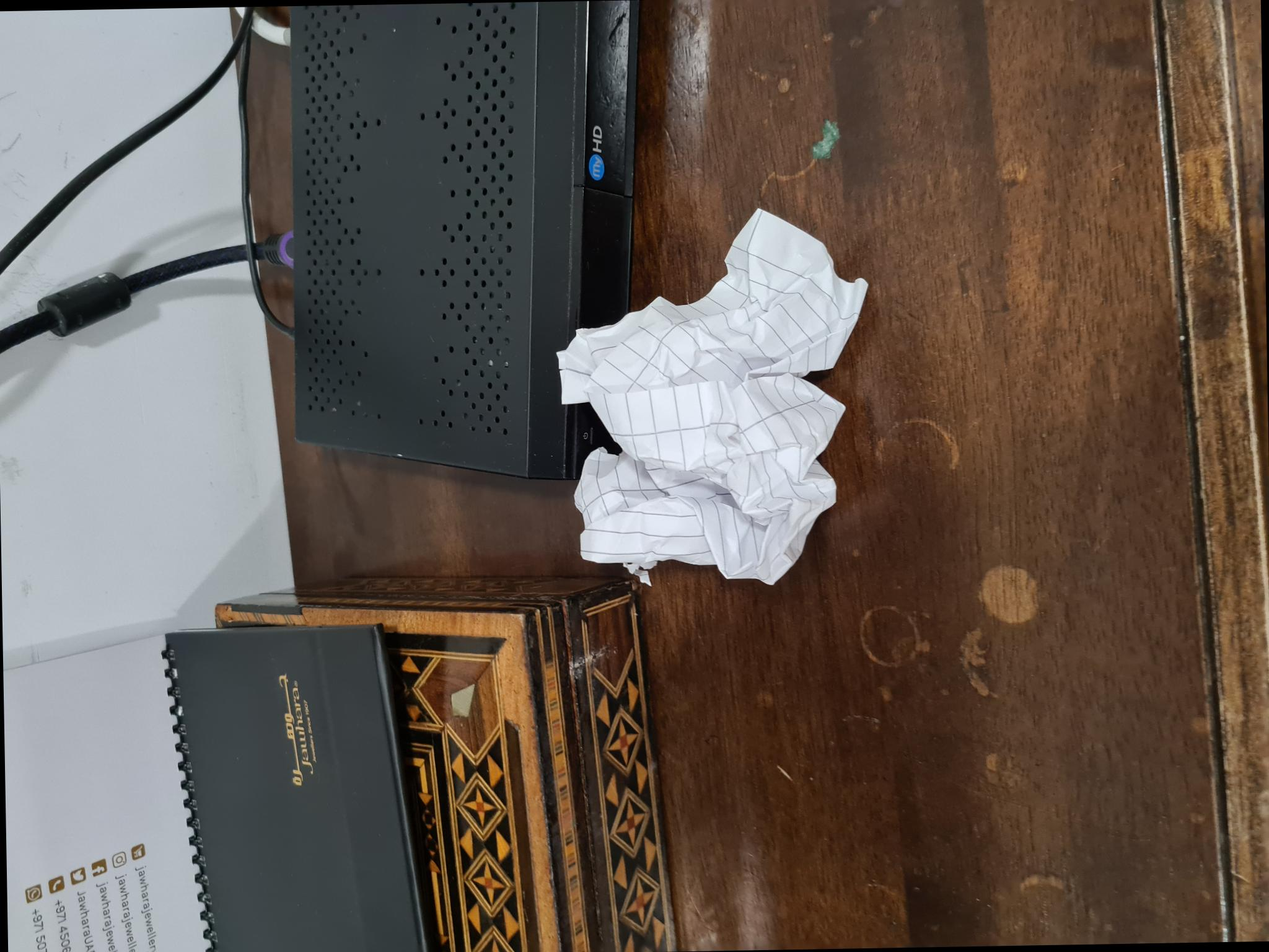Kertas: (371, 560, 744, 870), (0, 6, 318, 212)
